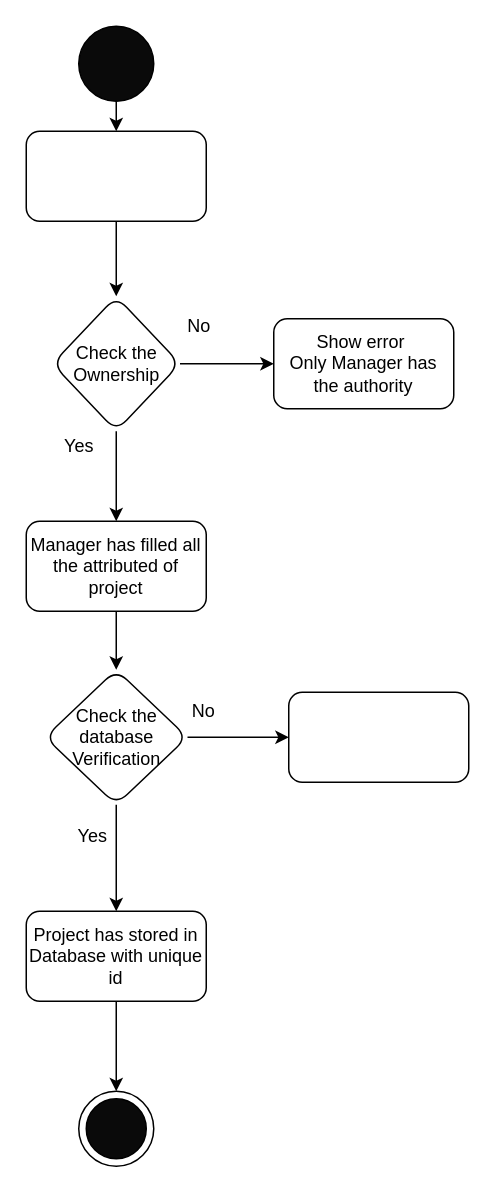
The diagram is 495 pixels wide and 1193 high, and some of its shapes have lost their labels. The centre of each missing label's shape, as x and y in pixels:
Show Database Error: point (378, 736)
User Login: point (115, 175)
